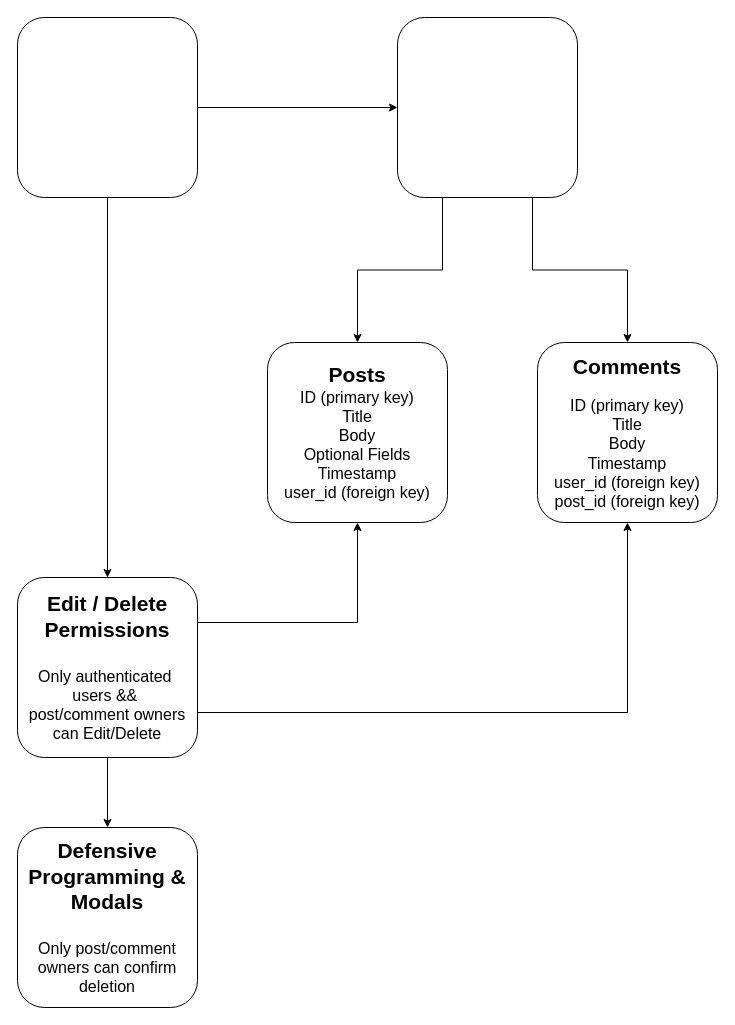
Some shapes in this 735 by 1025 pixel diagram are drawn without their labels. The centre of each missing label's shape, as x and y in pixels:
Authentication & Authorization Register Login Logout: point (107, 107)
Users ID (primary key) Username Email Password(_hash): point (487, 107)
